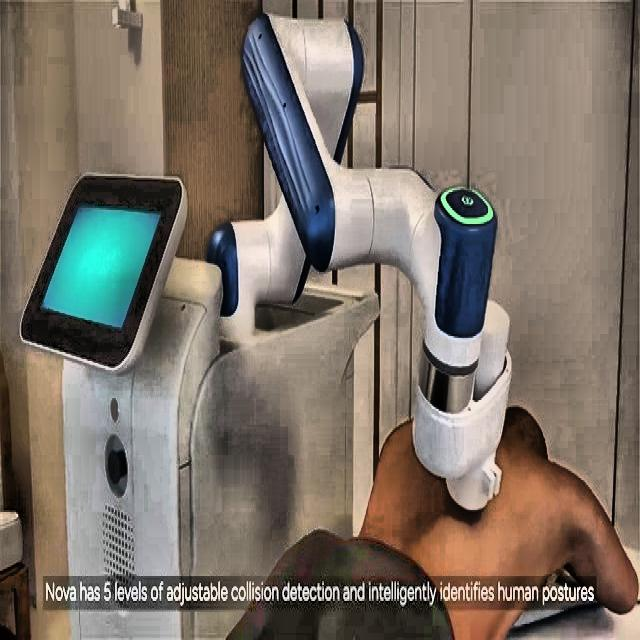human: (202, 396, 639, 640)
robot: (205, 11, 513, 514)
